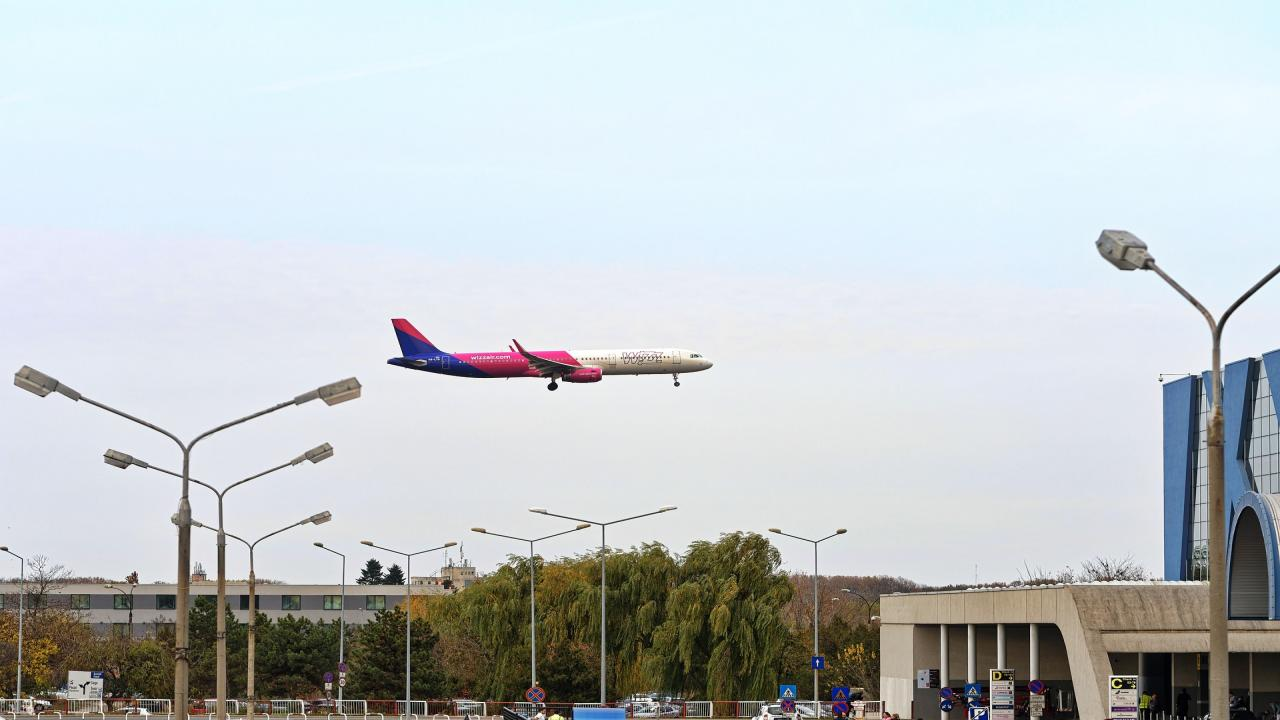Airplane: (374, 306, 728, 400)
